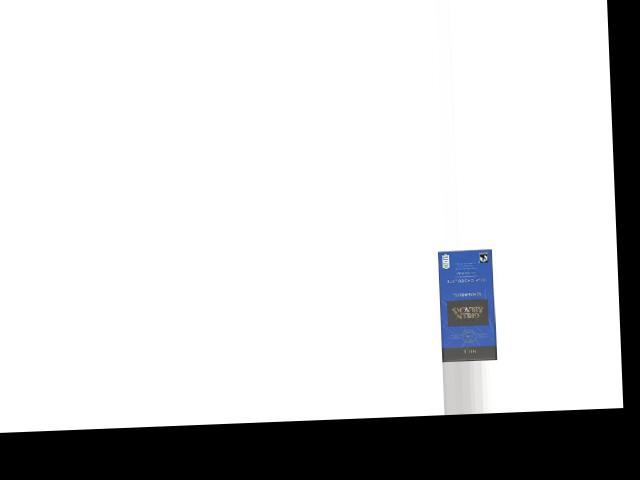chocolate: (436, 250, 497, 362)
